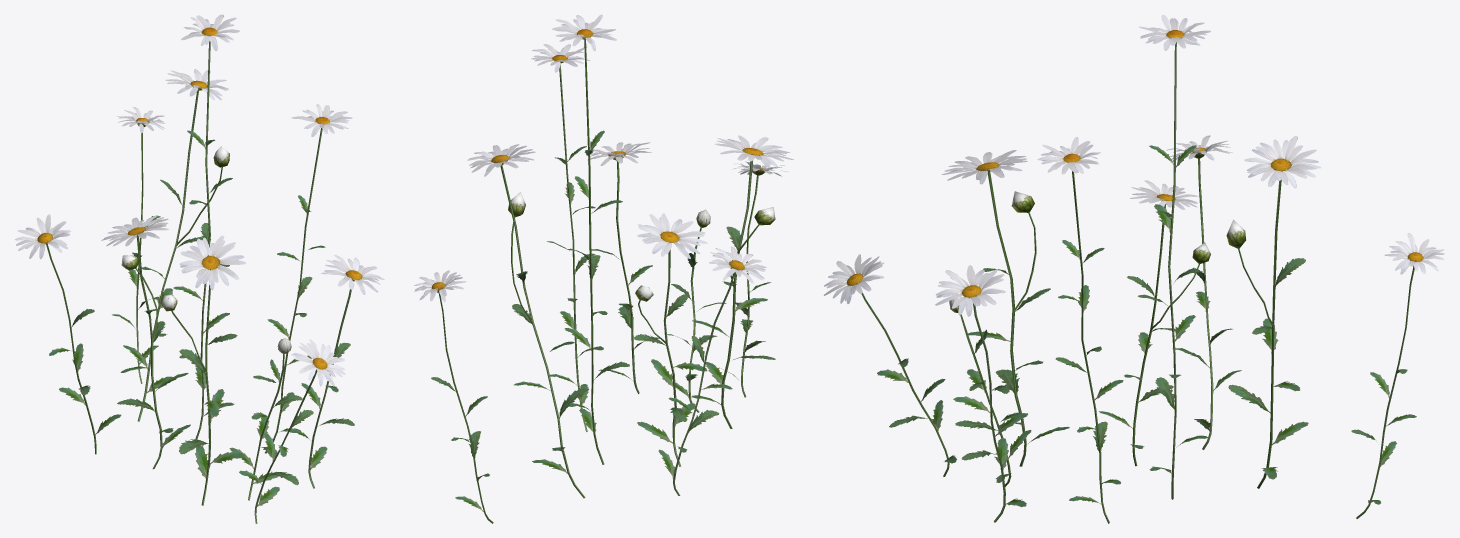
File: Daisy-group4bloomer.fbx
3 views of the same model, side by side, from view 1: azimuth 30°, elevation 25°; view 2: azimuth 150°, elevation 25°; view 3: azimuth 270°, elevation 25° (orthographic). The views are drawn at different scales.
Visible parts, largest first — view 1: Daisy-group4bloomer; view 2: Daisy-group4bloomer; view 3: Daisy-group4bloomer.
Part boxes in pixels (x1,y1,x2,y2): Daisy-group4bloomer: [15, 14, 384, 523]; Daisy-group4bloomer: [414, 14, 793, 523]; Daisy-group4bloomer: [824, 14, 1444, 523].
Bounding box in the file's own units: 74.75 × 108 × 125.
